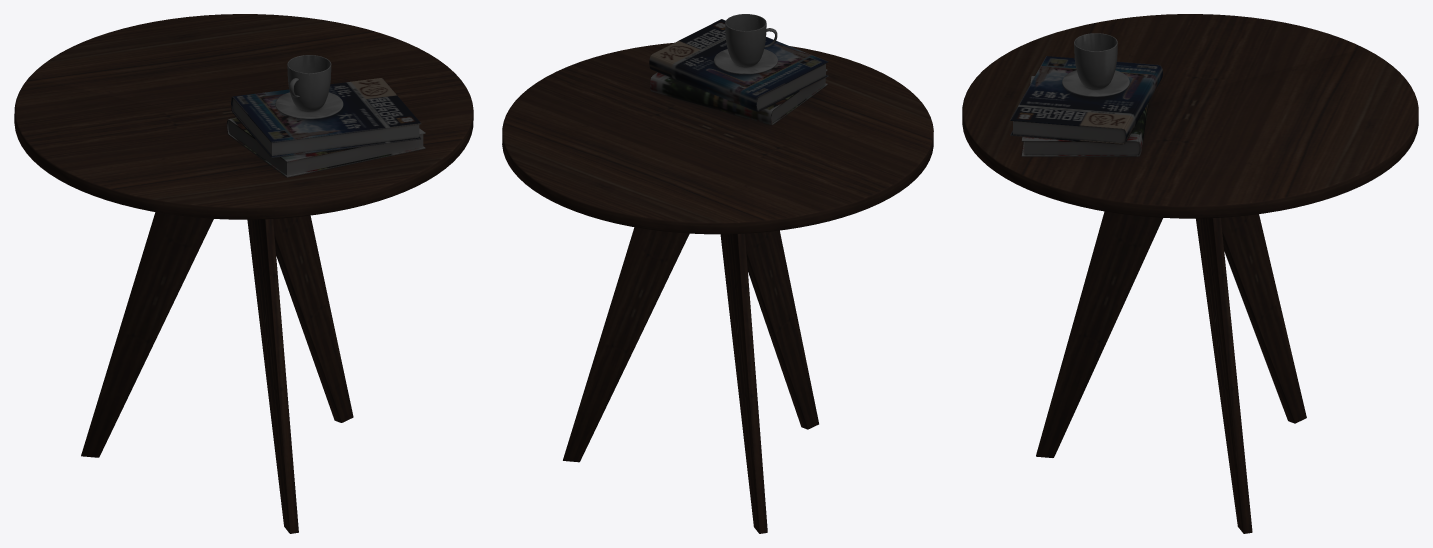
File: table_side_table_023fb02a-1aed-5167-92df-af4ae6a50164.glb
The picture shows the model from 3 angles, left to right: view 1: azimuth 30°, elevation 25°; view 2: azimuth 150°, elevation 25°; view 3: azimuth 270°, elevation 25°; orthographic projection. The views are drawn at different scales.
Visible parts, largest first — view 1: raw_model.obj; view 2: raw_model.obj; view 3: raw_model.obj.
Boxes of the visible parts, x1=… form: raw_model.obj: x1=14, y1=14, x2=473, y2=533; raw_model.obj: x1=502, y1=14, x2=933, y2=533; raw_model.obj: x1=962, y1=14, x2=1418, y2=533.
Bounding box in the file's own units: 0.5338 × 0.5606 × 0.5337.
1 material, 1 textured.
